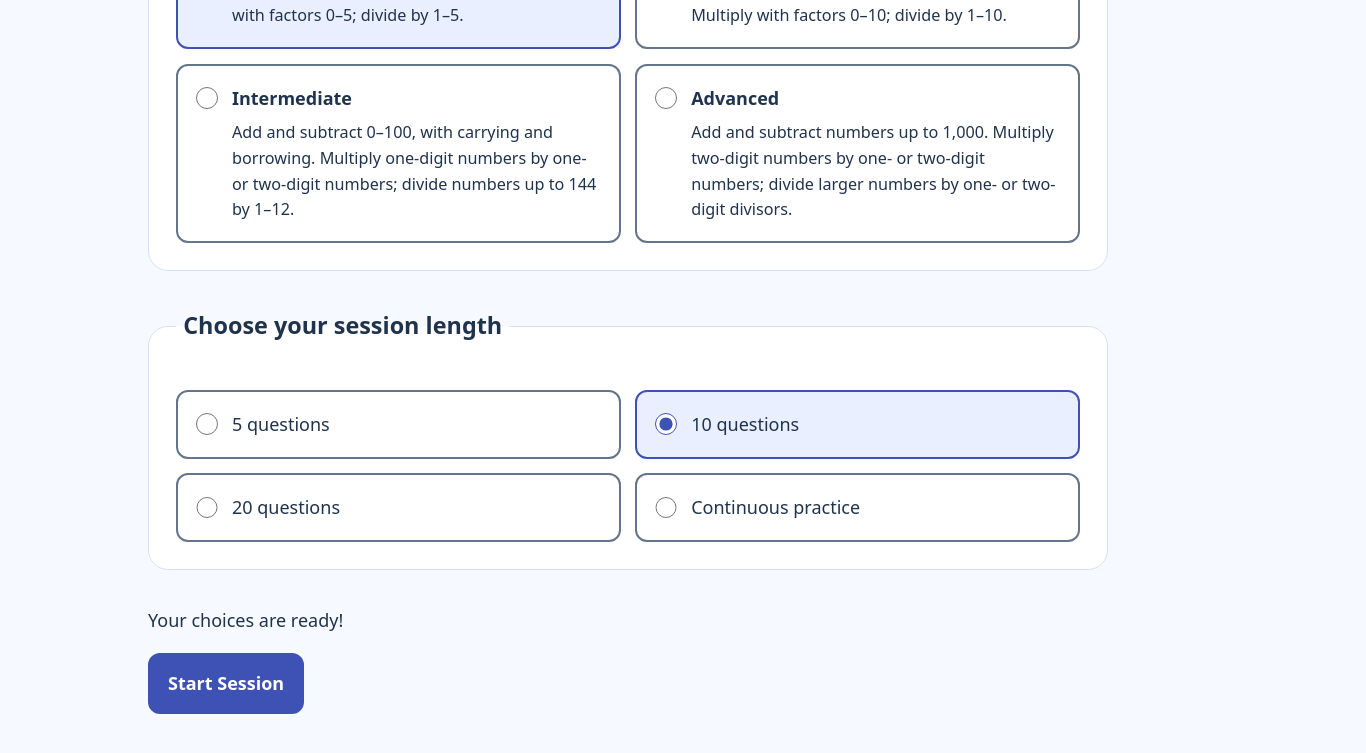
Test: active session recovery and navigation › cancels leaving, then ends and leaves without counting the unfinished answer
(page scrolled)
Click the button "Start Session" at point(226, 683), box [148,653,304,714]
(page scrolled)
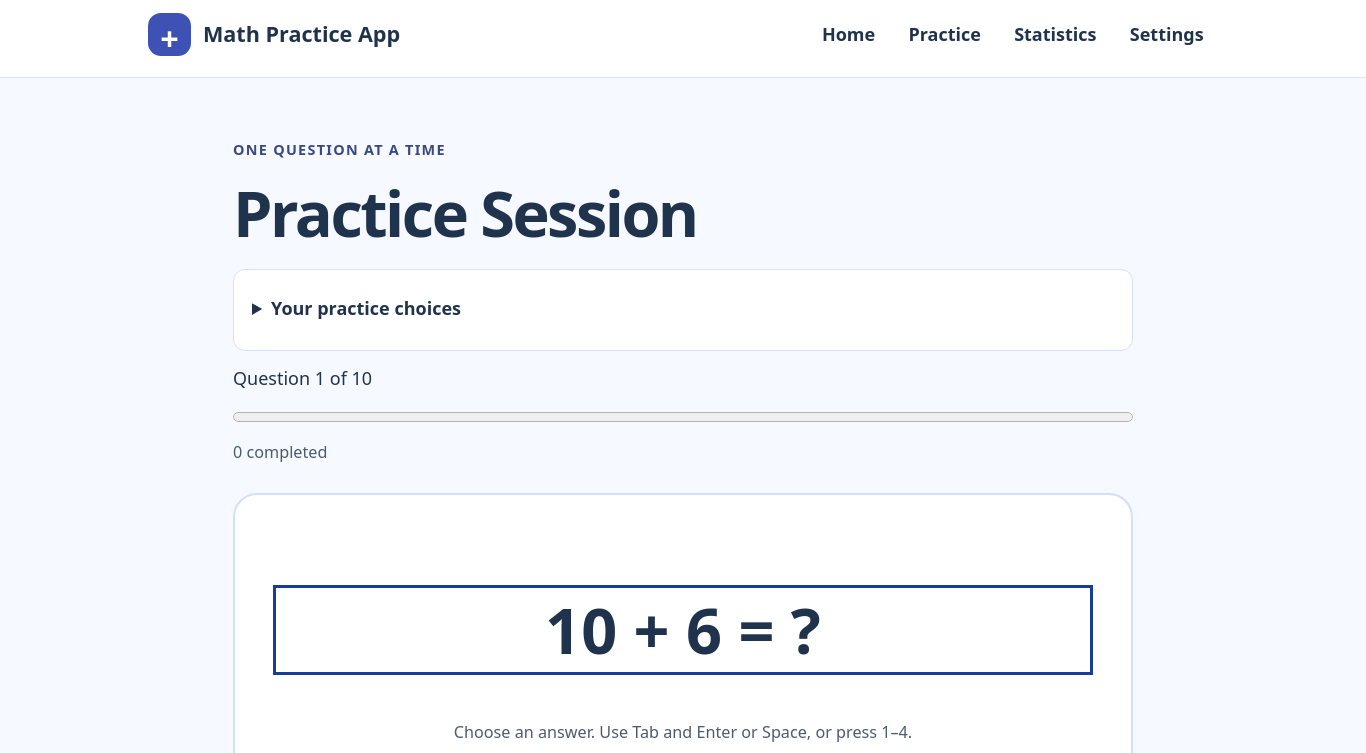
Click the link "Statistics" at point(1055, 34), box [1014,22,1096,46]
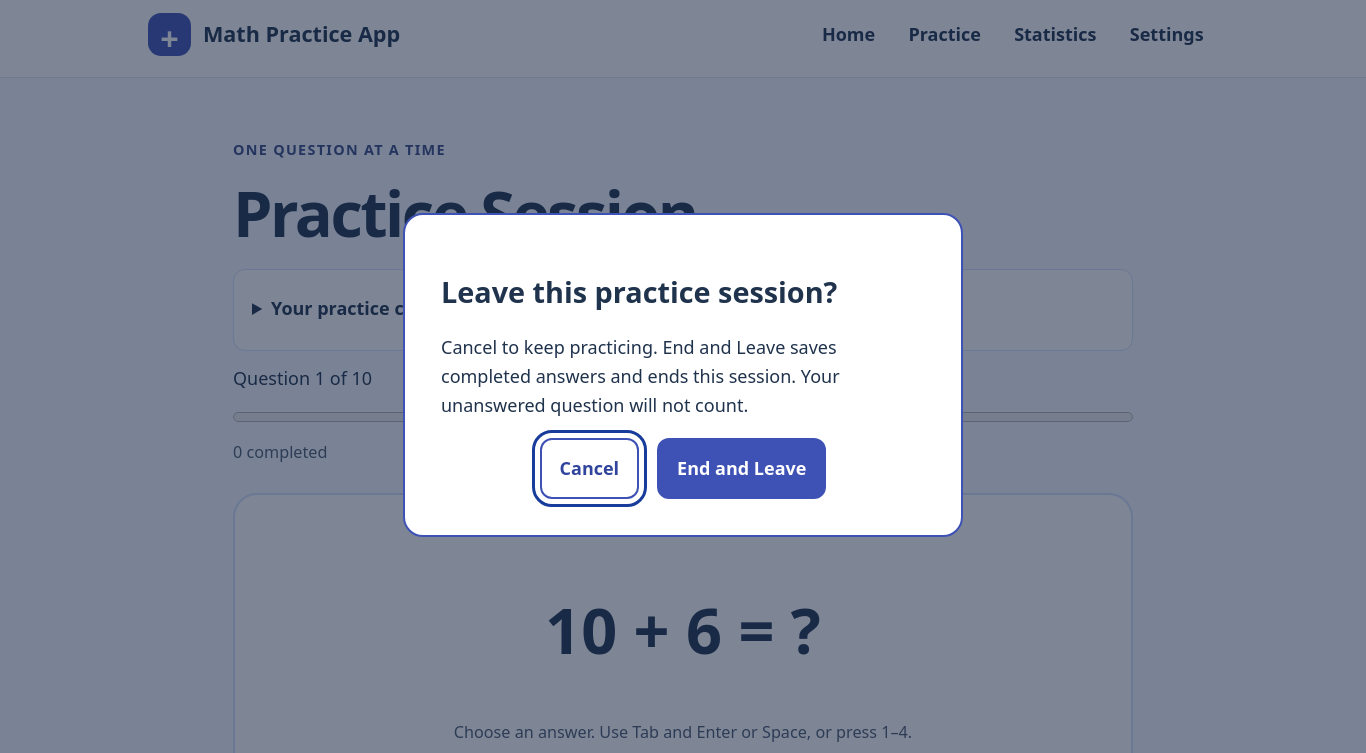
Result: the dialog is shown at [403,213,963,537]
Click the button "Cancel" at point(589, 468), box [540,438,639,499]
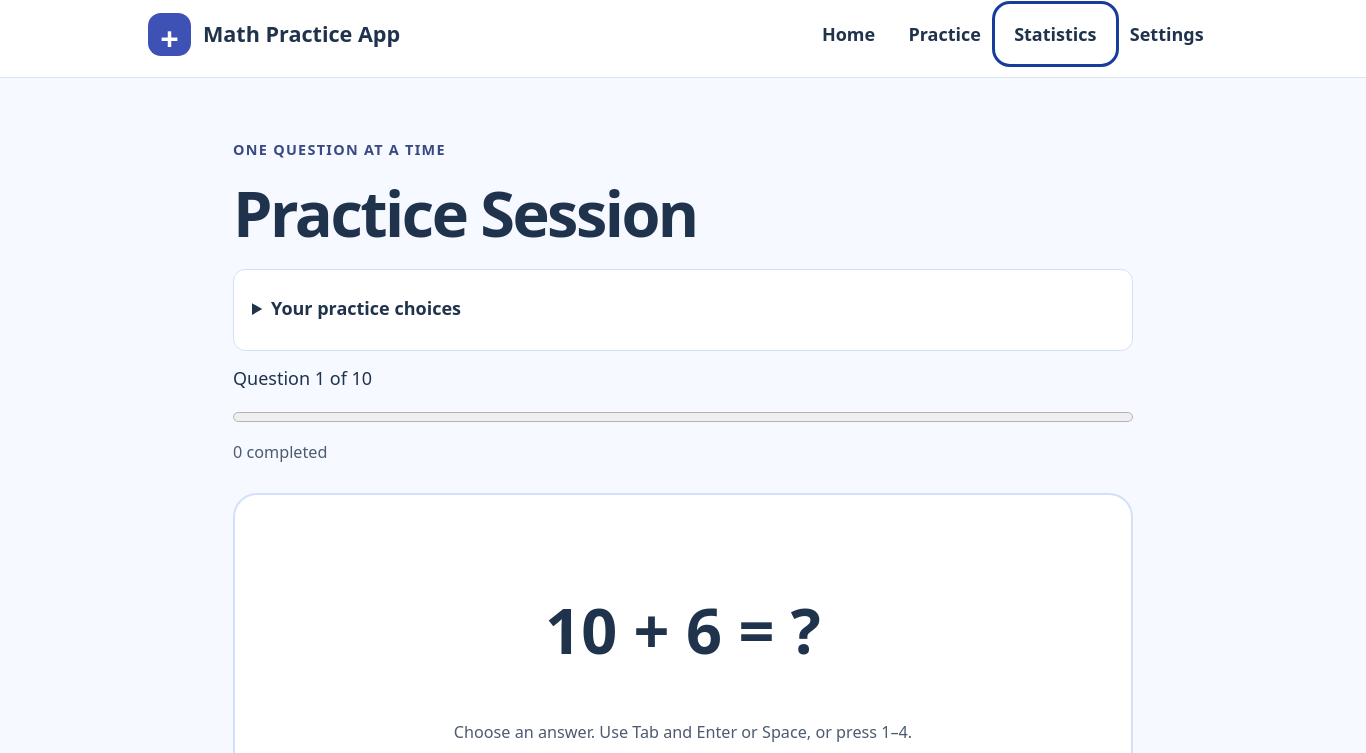
Click the link "Statistics" at point(1055, 34), box [1014,22,1096,46]
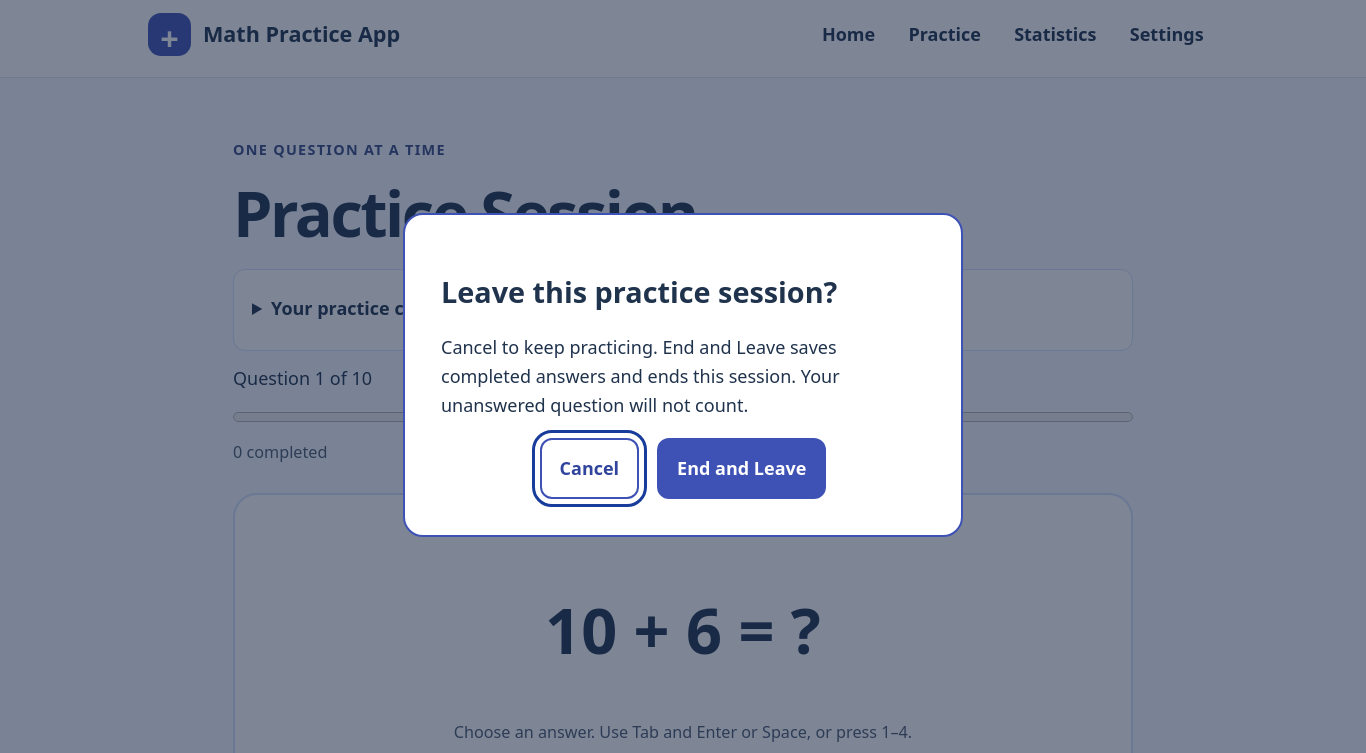
Click the button "End and Leave" at point(742, 468), box [657,438,826,499]
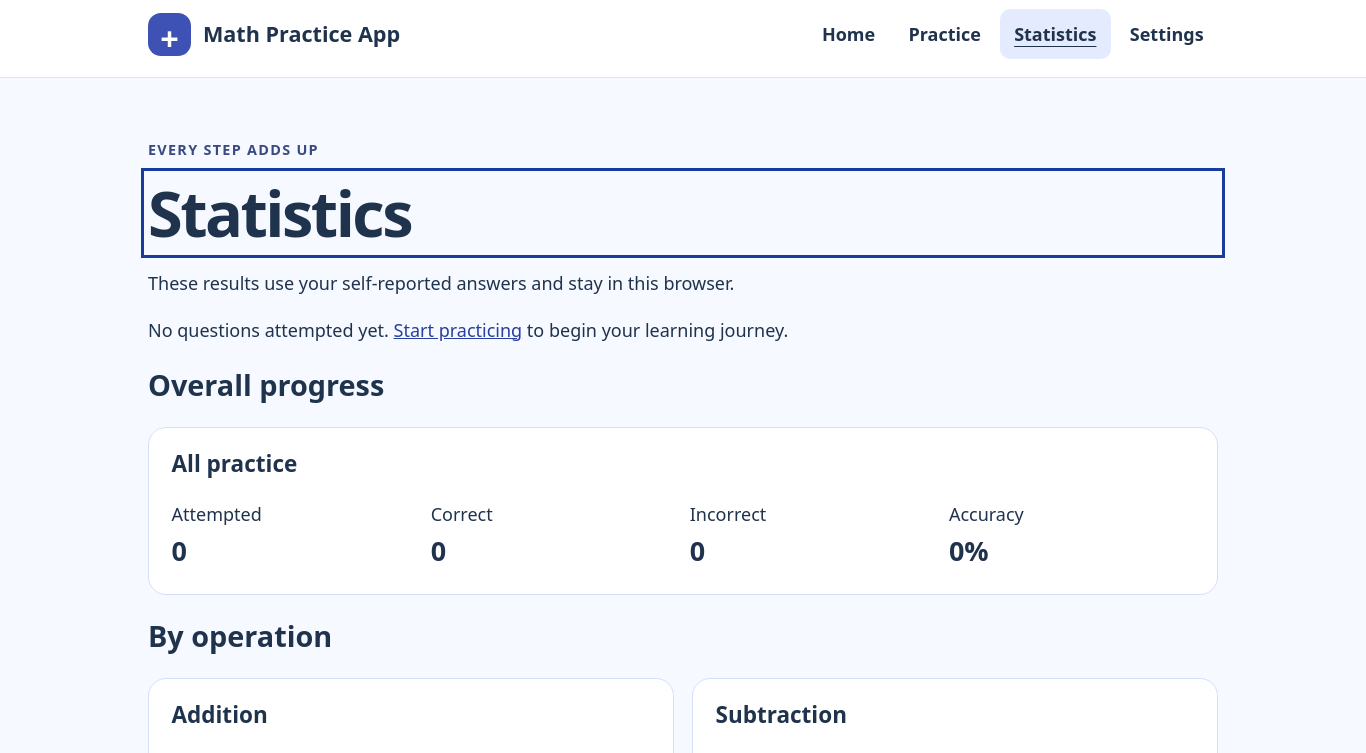
Result: the heading "Statistics" is shown at [148,170,411,255]
